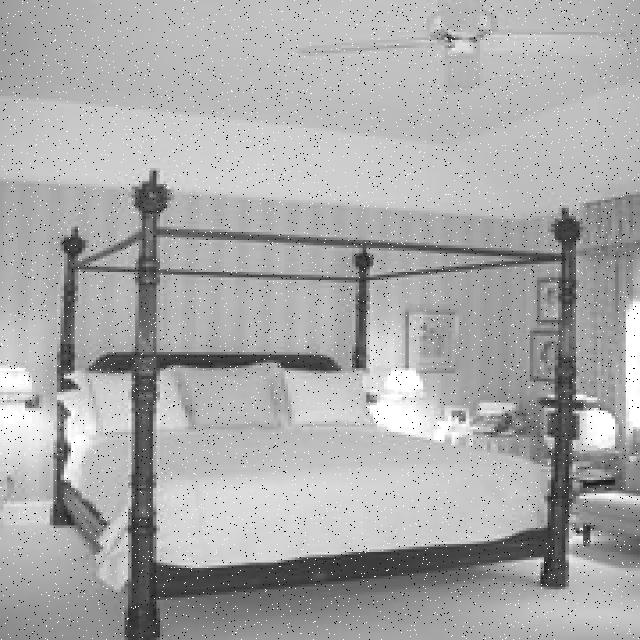bed: (51, 334, 589, 605)
